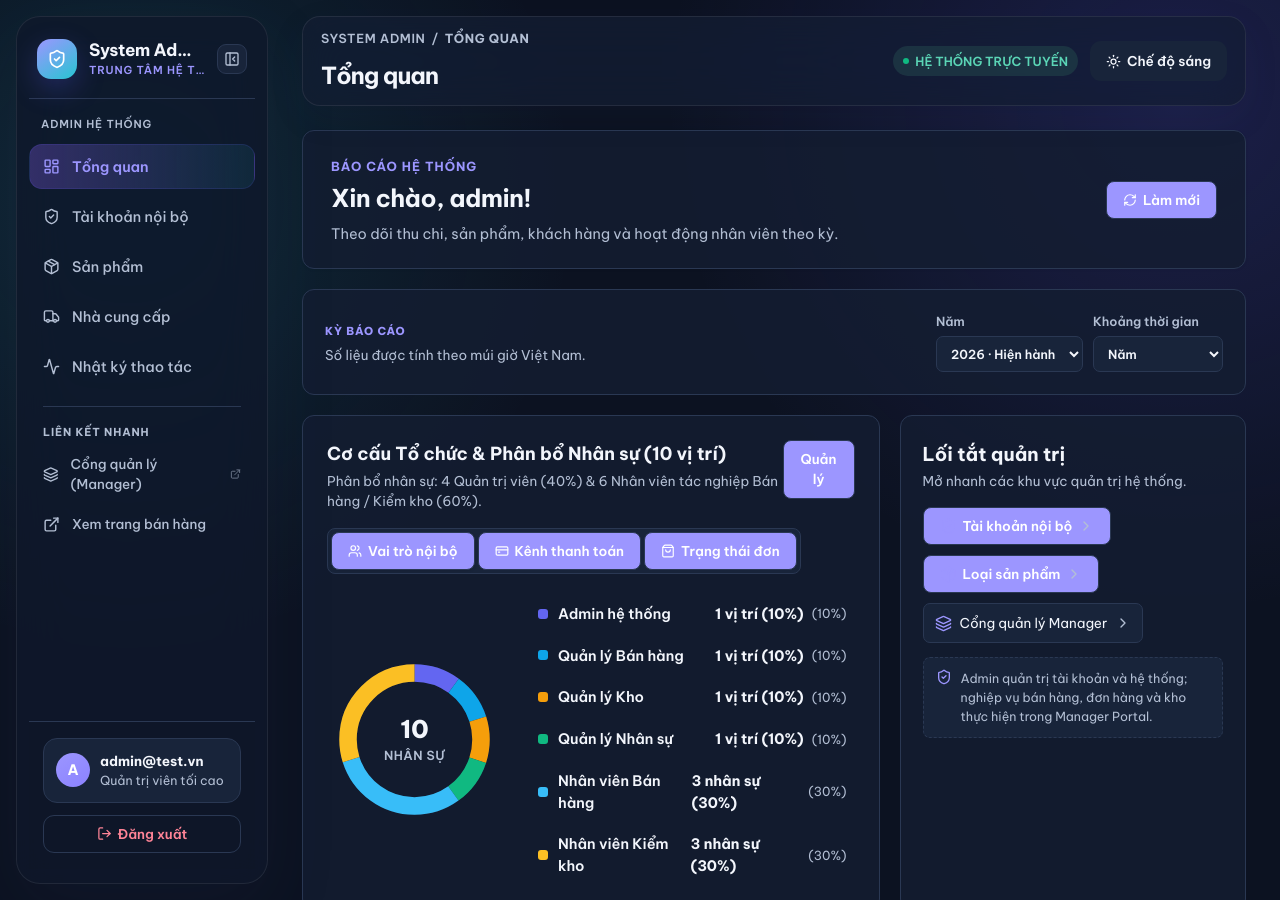
Test: dashboard shortcut opens its own function: Tài khoản nội bộ
This screenshot has width=1280, height=900.
Click the button "Tài khoản nội bộ" at (1017, 526), box x1=922 y1=507 x2=1112 y2=545
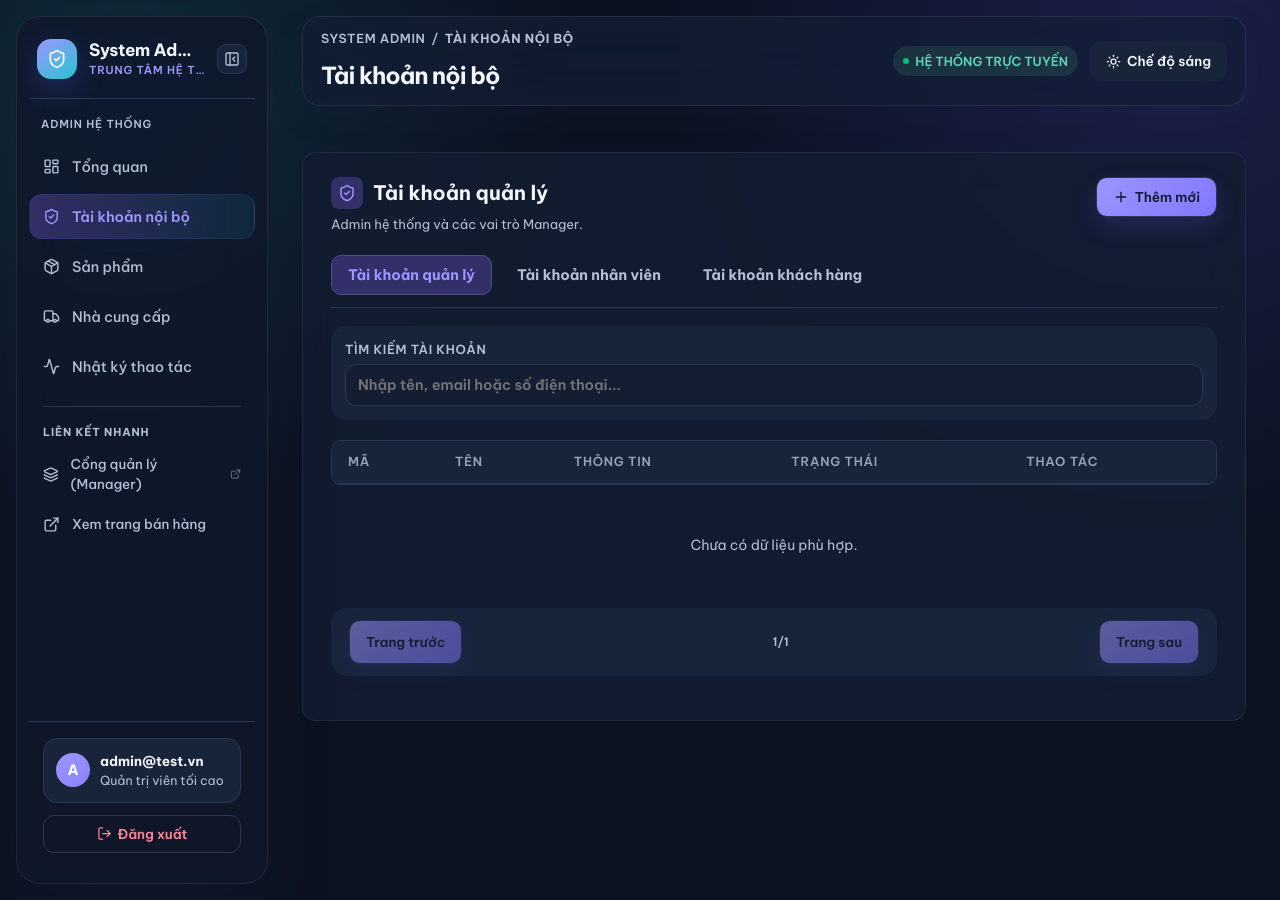
Now the text "Chưa có dữ liệu phù hợp." is shown, box x1=690 y1=536 x2=858 y2=554
